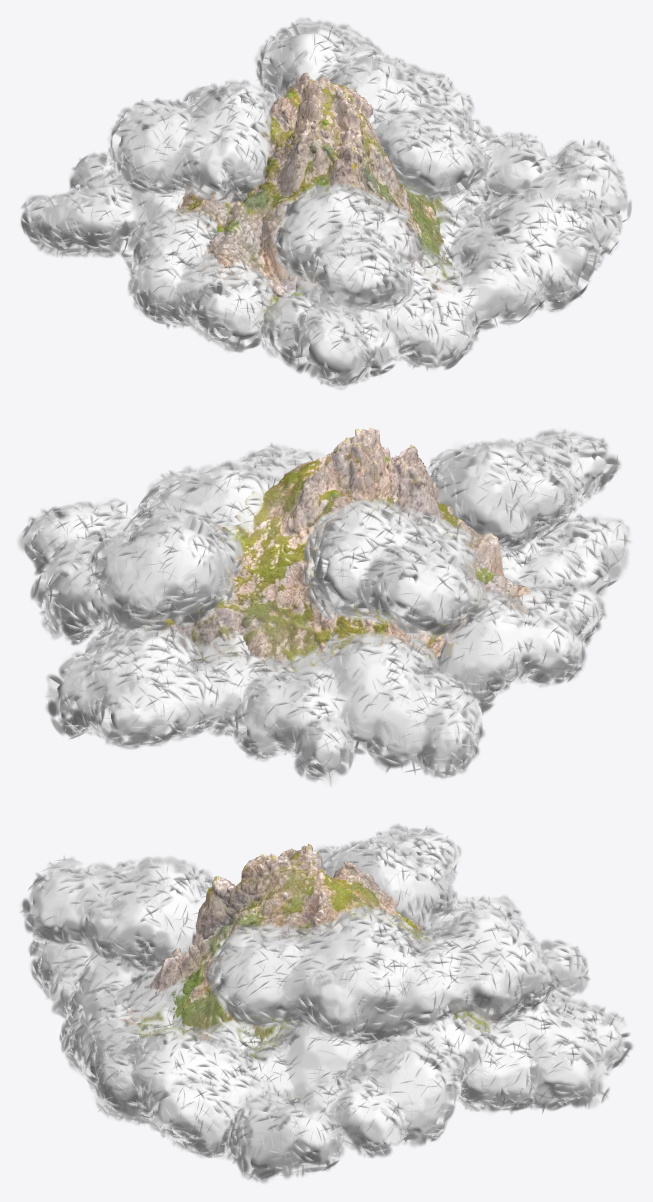
File: mountainsComp.glb
The picture shows the model from 3 angles, top to bottom: view 1: azimuth 30°, elevation 25°; view 2: azimuth 150°, elevation 25°; view 3: azimuth 270°, elevation 25°; orthographic projection. The views are drawn at different scales.
Visible parts, largest first — view 1: Object_5, Object_3, Object_4; view 2: Object_5, Object_3, Object_4; view 3: Object_5, Object_3, Object_4.
Boxes of the visible parts, x1=… form: Object_5: x1=18, y1=17, x2=631, y2=389; Object_3: x1=31, y1=32, x2=620, y2=376; Object_4: x1=174, y1=72, x2=455, y2=321; Object_5: x1=17, y1=427, x2=632, y2=786; Object_3: x1=33, y1=442, x2=623, y2=772; Object_4: x1=144, y1=428, x2=541, y2=672; Object_5: x1=19, y1=823, x2=632, y2=1183; Object_3: x1=33, y1=837, x2=621, y2=1168; Object_4: x1=119, y1=843, x2=504, y2=1097.
Bounding box in the file's own units: 74.41 × 31.25 × 77.59.
Materials: 3 (2 with a texture image).
